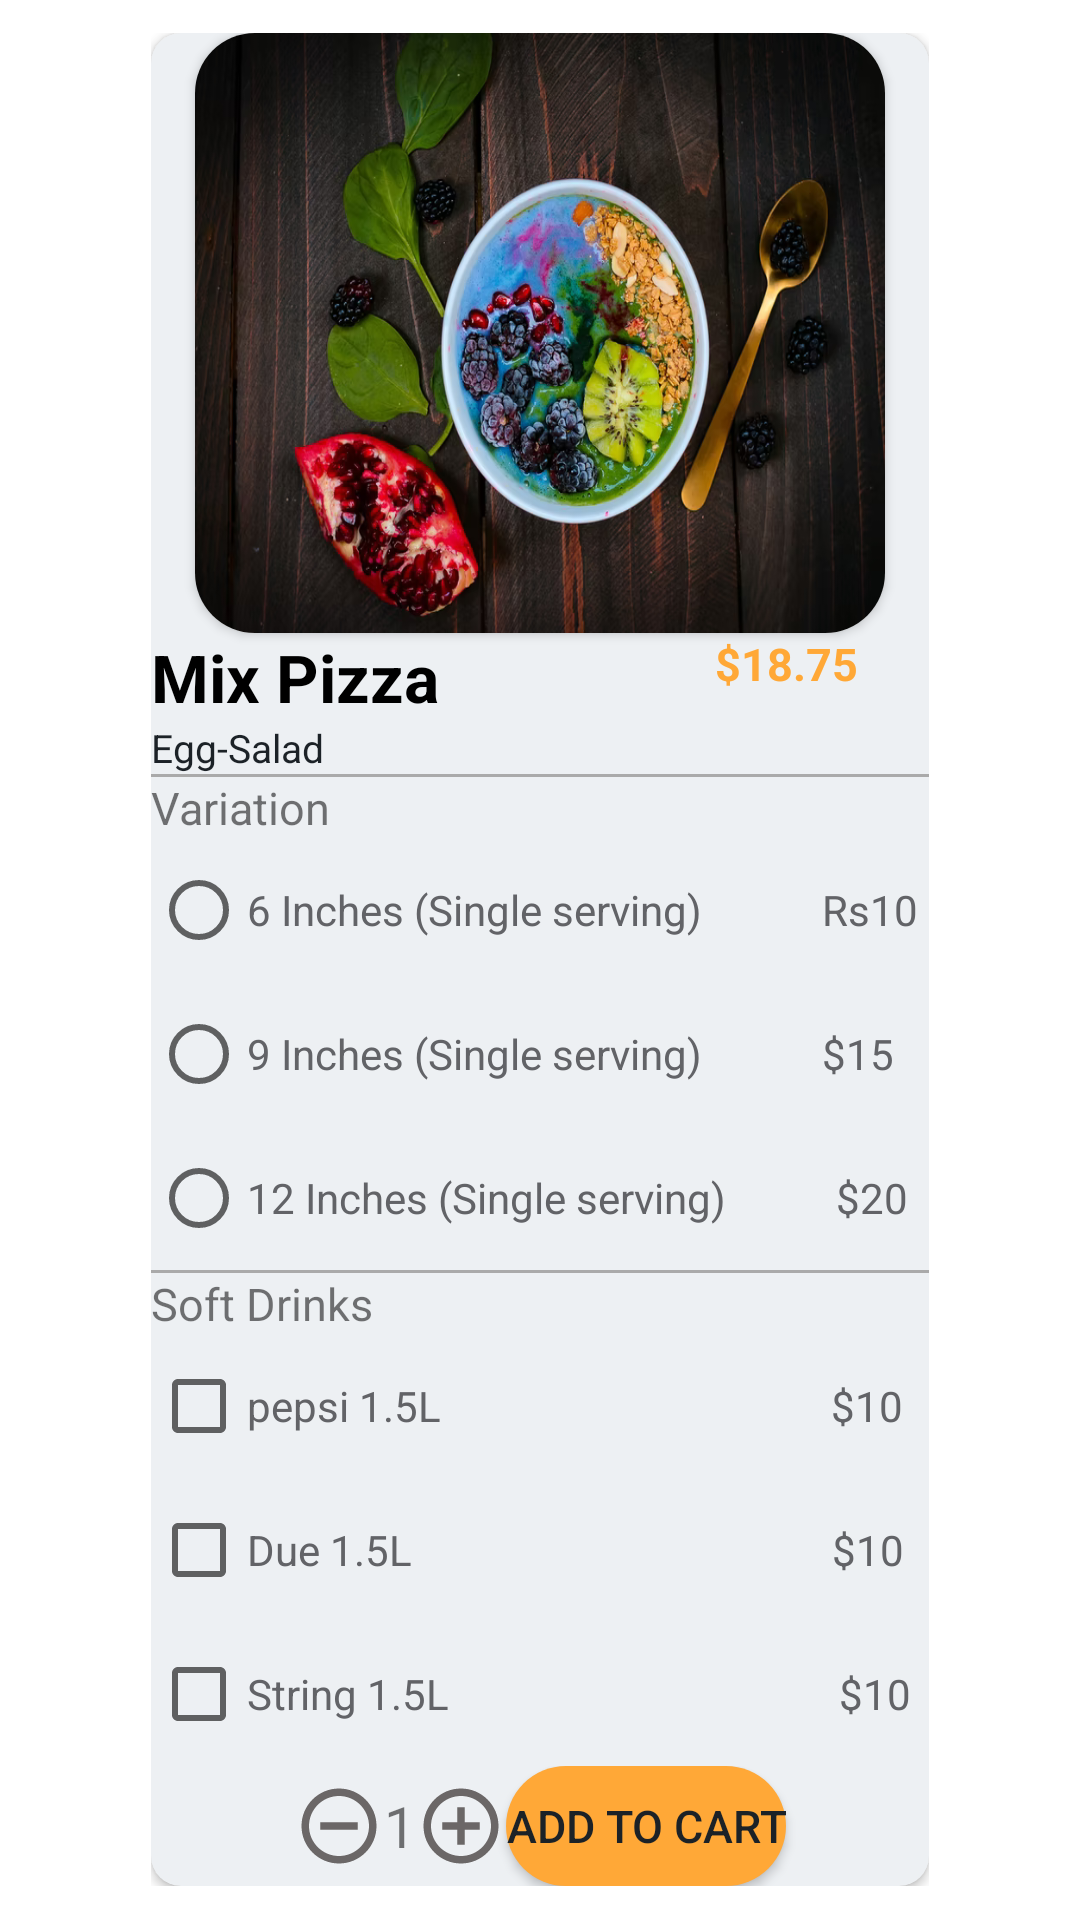

Named icons in this screenshot (1080 × 1920) and their bounding boxes, box(x1, y1, x2, y2):
add circle: box(423, 1788, 499, 1864)
remove circle: box(301, 1788, 377, 1864)
